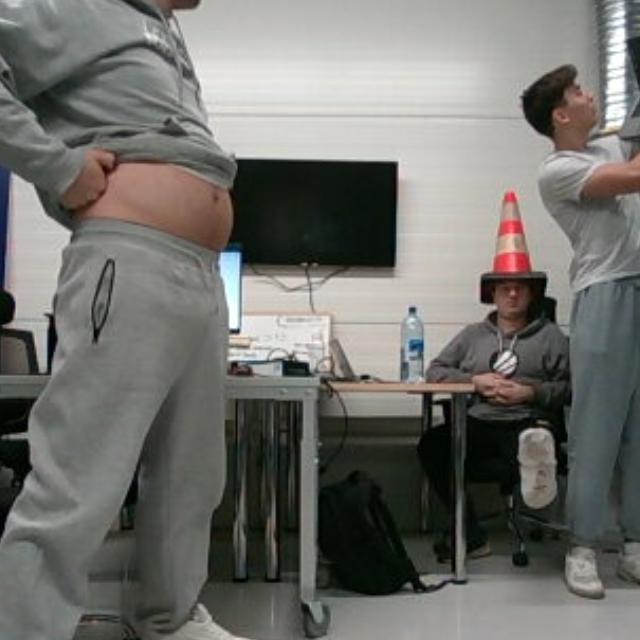Traffic-cone: (468, 185, 558, 288)
